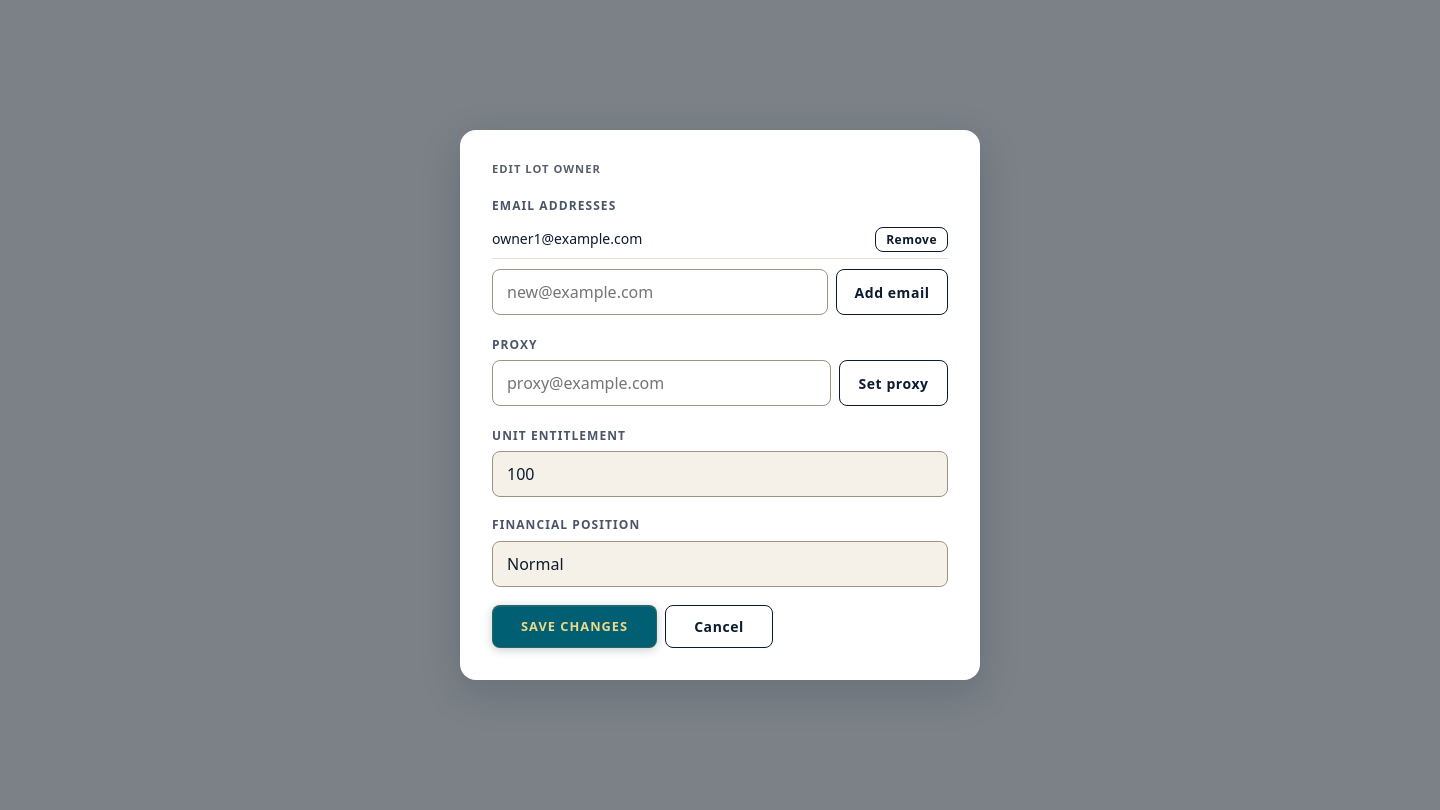
it: LotOwnerForm - Edit modal › shows validation error for negative entitlement (client-side)
Step 1. Replace the text in the number field labelled "Unit Entitlement" with "-10" → {"x": 720, "y": 474}, box [492,451,948,497]
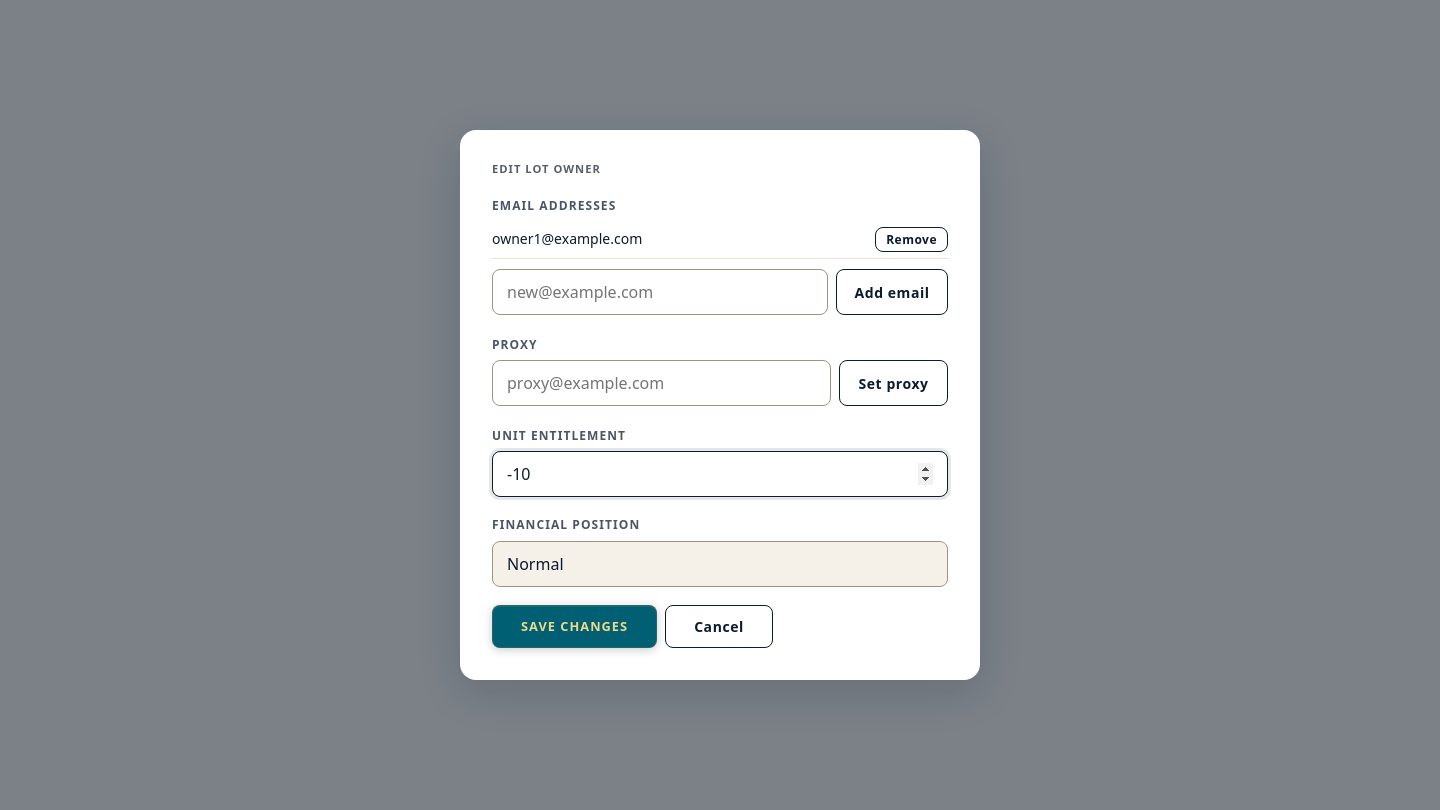
Step 2. Click the button "Save Changes" → {"x": 575, "y": 626}, box [492,605,657,648]
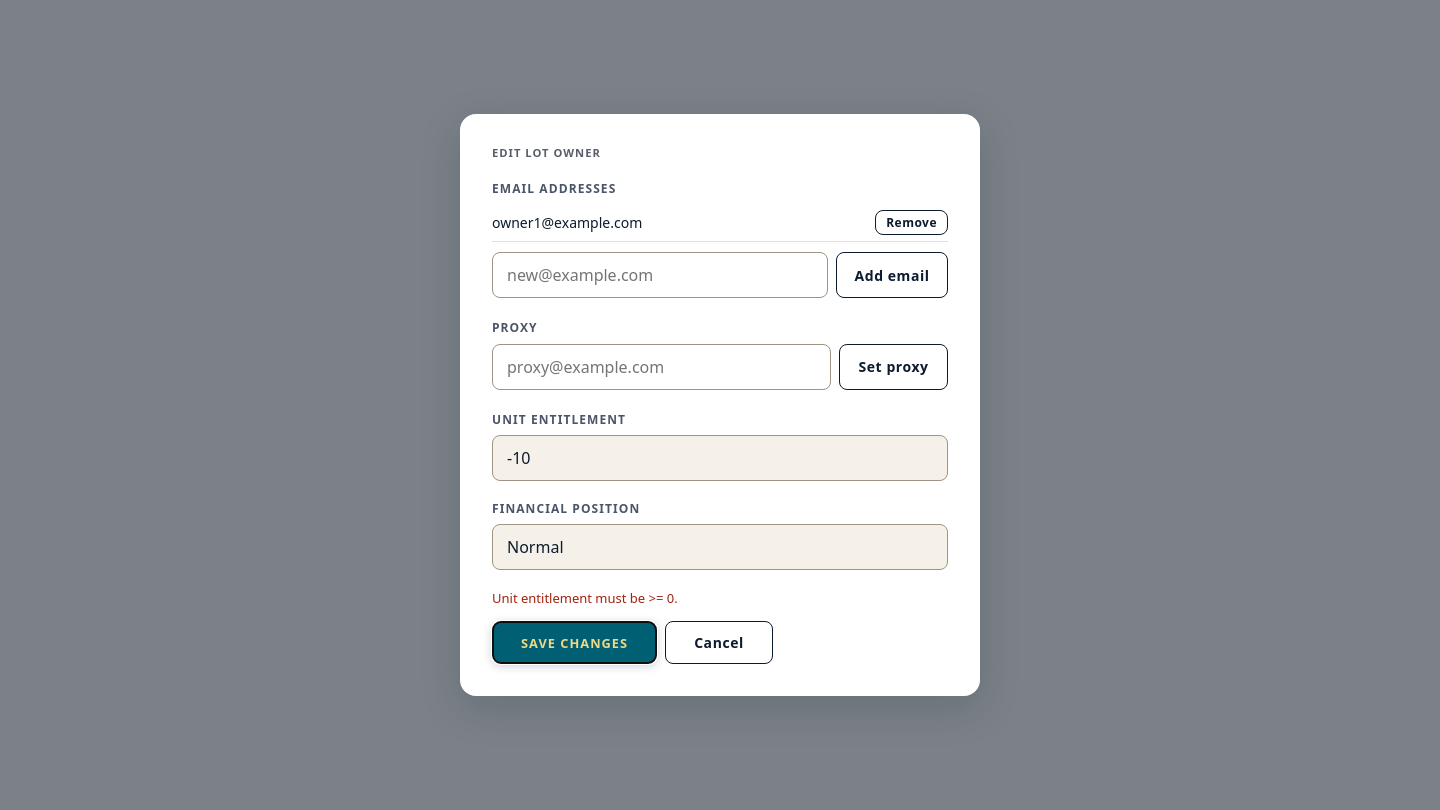
Expected: the text "Unit entitlement must be >= 0." is shown, [492,589,678,607]
